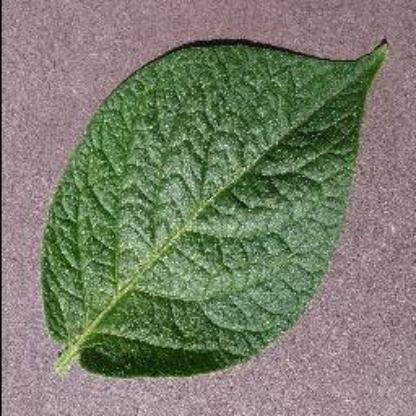Healthy-plant: (43, 30, 398, 396)
